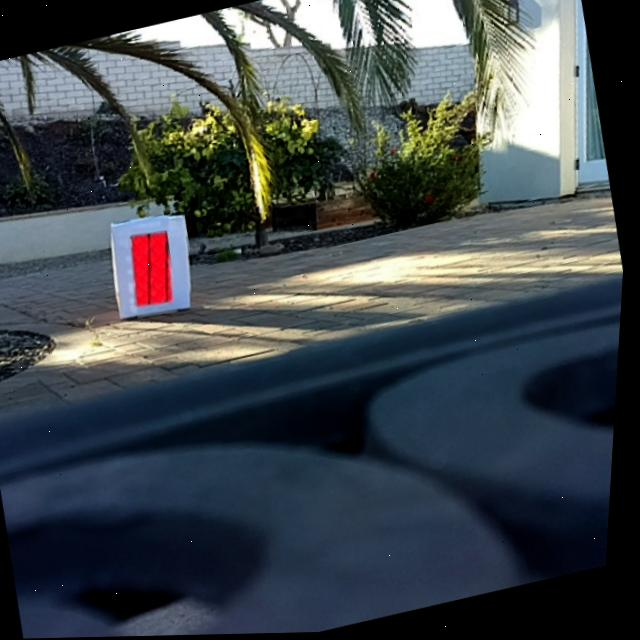led: (126, 229, 183, 309)
